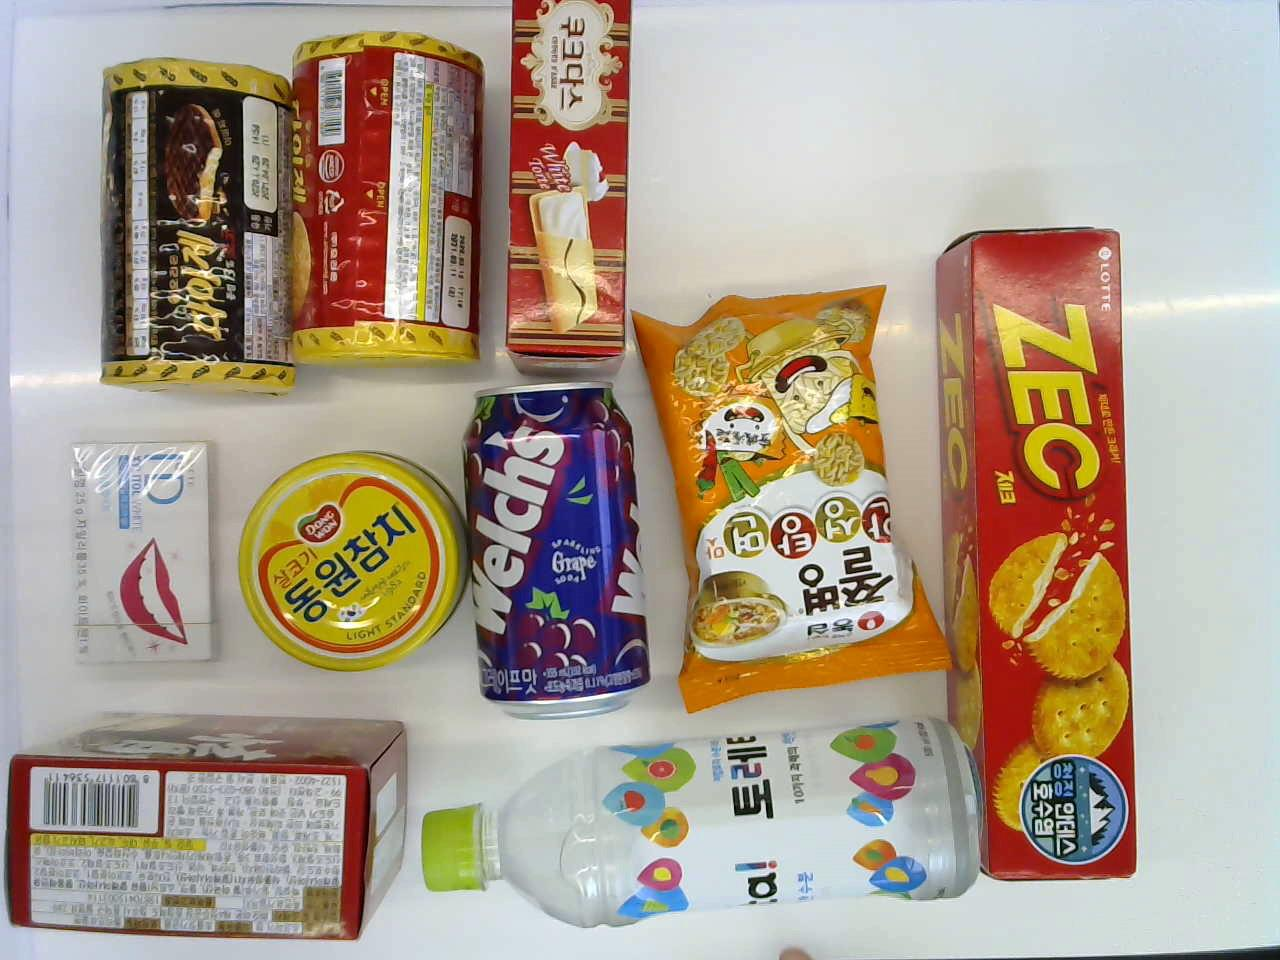ID_gum: (36, 405, 245, 680)
chocopie: (5, 696, 413, 936)
couque_white: (483, 0, 636, 365)
diget_choco: (88, 43, 297, 398)
diget_ori: (285, 18, 493, 373)
jjolbyung_noodle: (653, 270, 931, 721)
toreta: (413, 699, 996, 924)
tuna: (238, 438, 459, 670)
welchs: (459, 372, 655, 727)
zec: (928, 188, 1137, 895)
